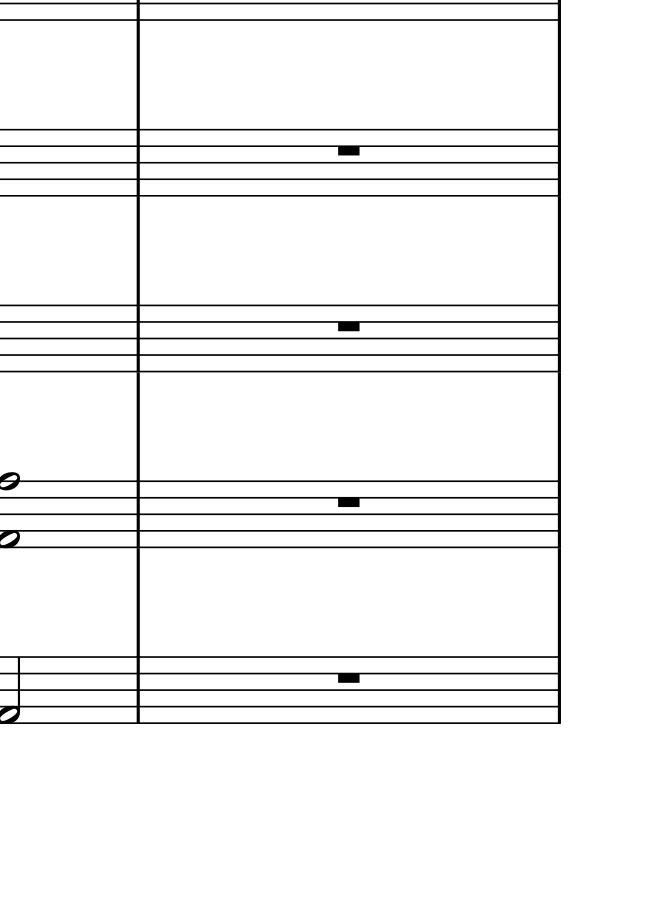Rests1: (333, 669, 364, 686), (333, 318, 364, 334), (333, 494, 364, 510), (334, 141, 363, 158)
Single_barline: (129, 481, 146, 548), (129, 305, 146, 370), (550, 306, 567, 371), (130, 130, 147, 194), (550, 483, 567, 547), (550, 131, 567, 194), (130, 656, 145, 722), (551, 657, 566, 723)
